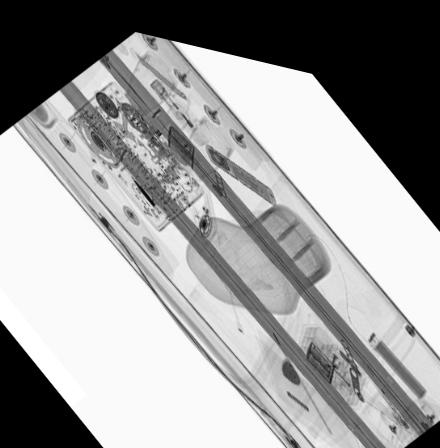Lighter: (357, 343, 412, 409)
